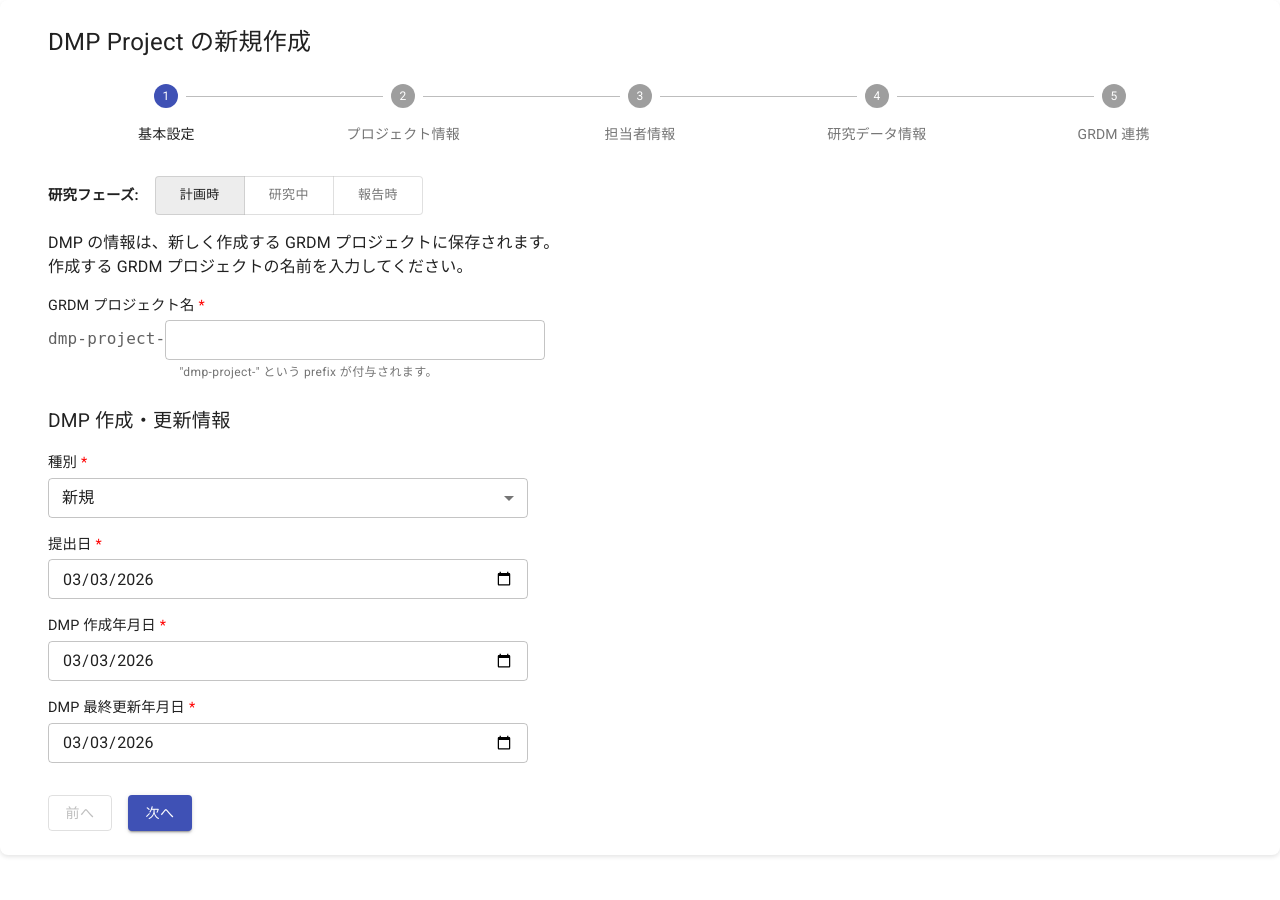
Test: FormCard with Stepper › error indicator (requirement ②): shows ! on steps with missing required fields › shows ! error icon on current step when 次へ is clicked with invalid fields
Click the button "次へ". click: point(160, 813)
box: [128,794,192,831]
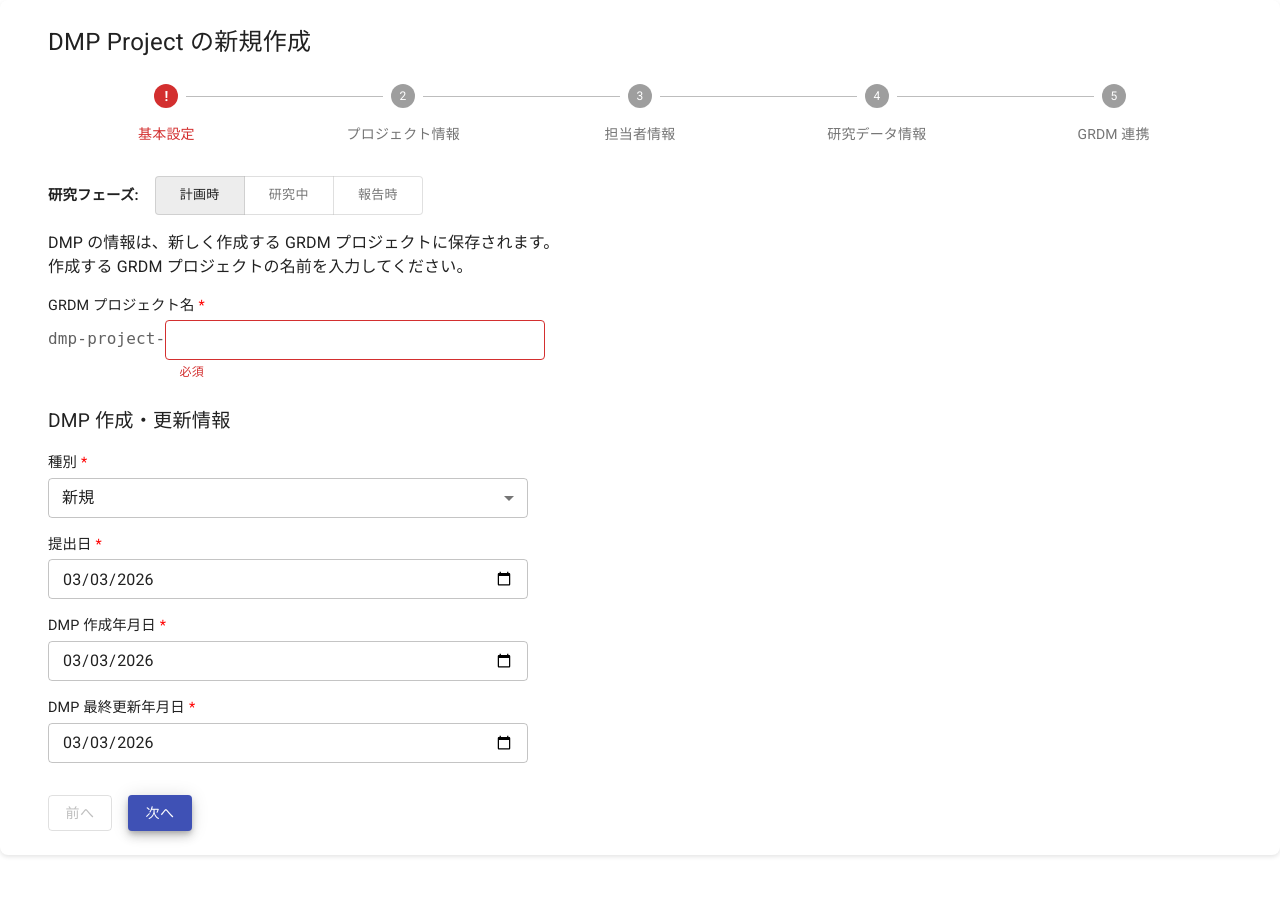
Expected: the text "!" is shown, [154,84,178,108]
